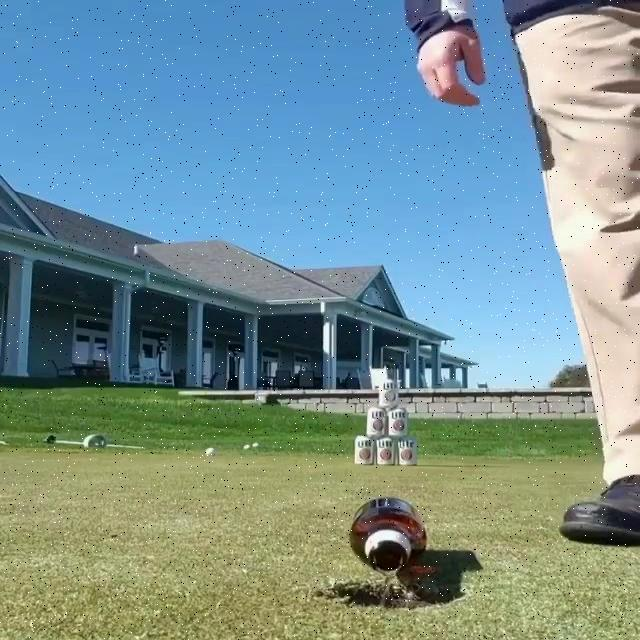golf ball: (203, 446, 215, 457), (241, 444, 251, 451), (251, 441, 260, 448)
